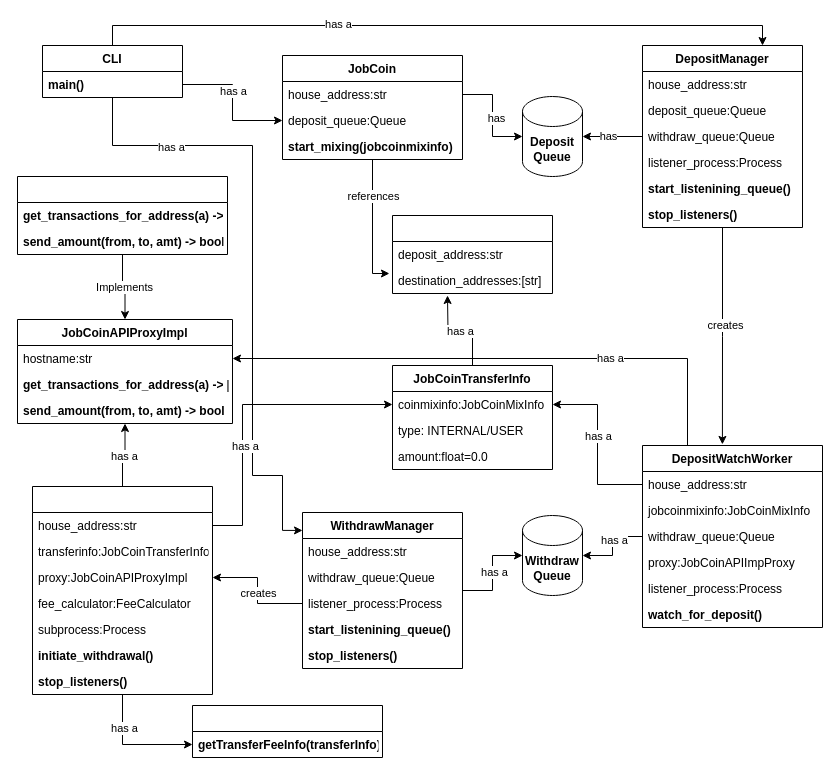
Some shapes in this 840 by 777 pixel diagram are drawn without their labels. The box of each missing label's shape, as (x1, y1, x2, y2) in pixels:
FeeCalculator: (192, 704, 382, 758)
JobCoinAPIProxyImplProd: (16, 176, 228, 254)
JobCoinMixInfo: (392, 214, 552, 294)
WithdrawWorker: (32, 486, 212, 694)
